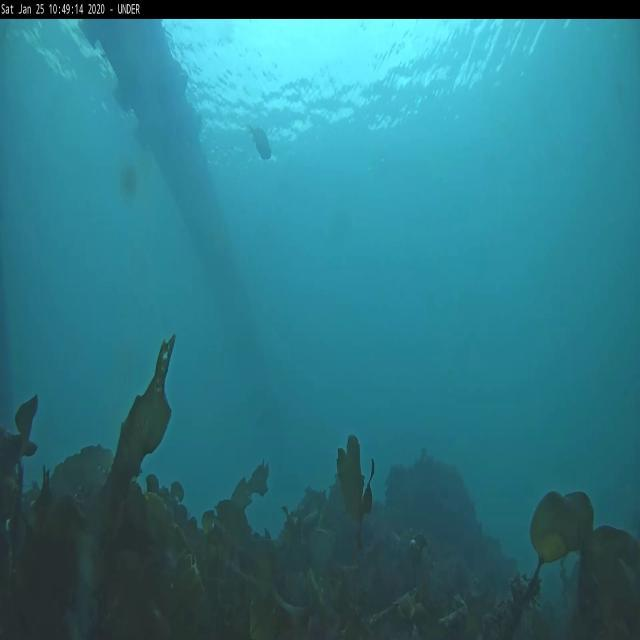fish: (247, 118, 271, 162)
